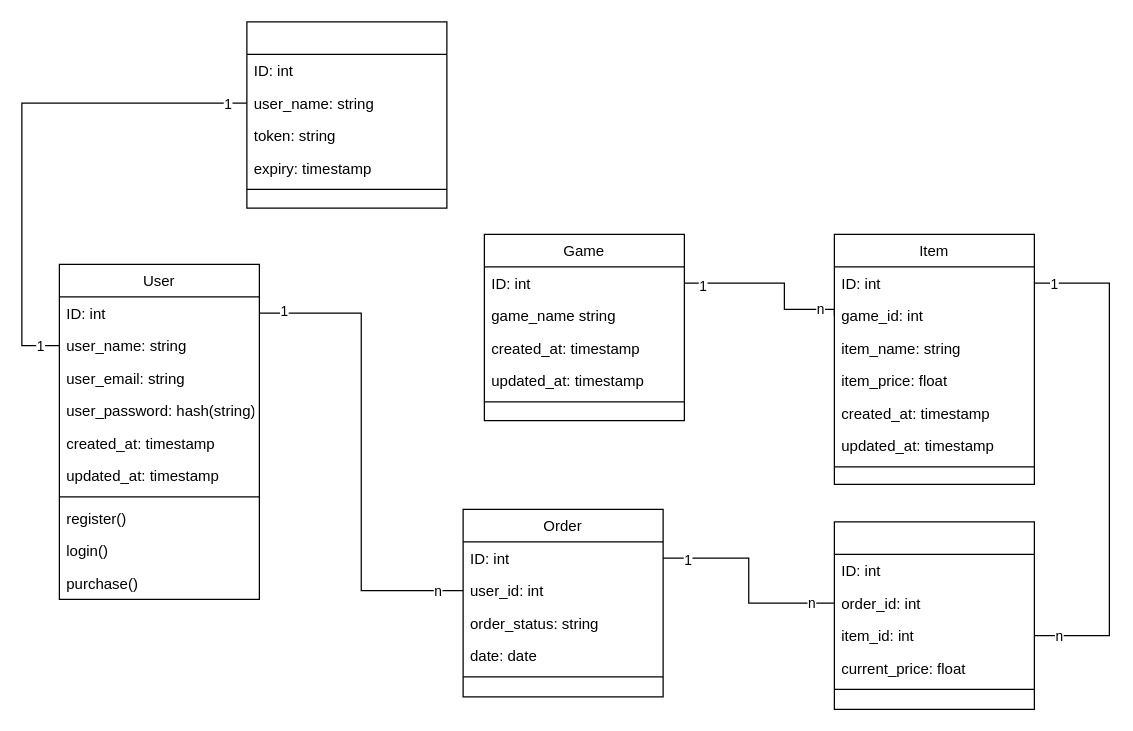
This 1133x731 diagram has some shape labels left out. The box of each missing label's shape, as (x1, y1, x2, y2) in pixels:
OrderItem: (833, 521, 1034, 709)
Session: (246, 21, 447, 208)
